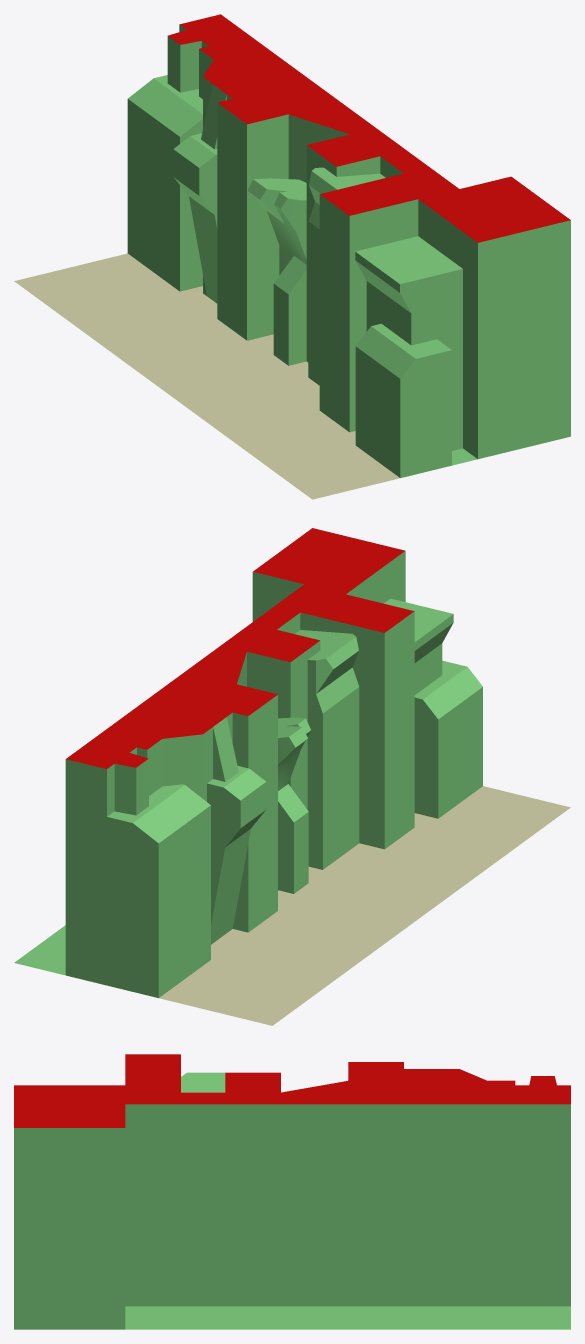
The model's file is x_oo_ground_49_wall1_rmstrd.fbx.
3 renders of one model, top to bottom at view 1: azimuth 30°, elevation 25°; view 2: azimuth 150°, elevation 25°; view 3: azimuth 270°, elevation 25°, orthographic. The views are drawn at different scales.
Visible parts, largest first — view 1: x_oo_ground_49_wall1_rmstrd1; view 2: x_oo_ground_49_wall1_rmstrd1; view 3: x_oo_ground_49_wall1_rmstrd1.
Part boxes in pixels (x1=…): x_oo_ground_49_wall1_rmstrd1: x1=14, y1=14, x2=570, y2=499; x_oo_ground_49_wall1_rmstrd1: x1=14, y1=528, x2=570, y2=1025; x_oo_ground_49_wall1_rmstrd1: x1=14, y1=1054, x2=570, y2=1329.
Size of the model in its own units: 5 by 4 by 10.
